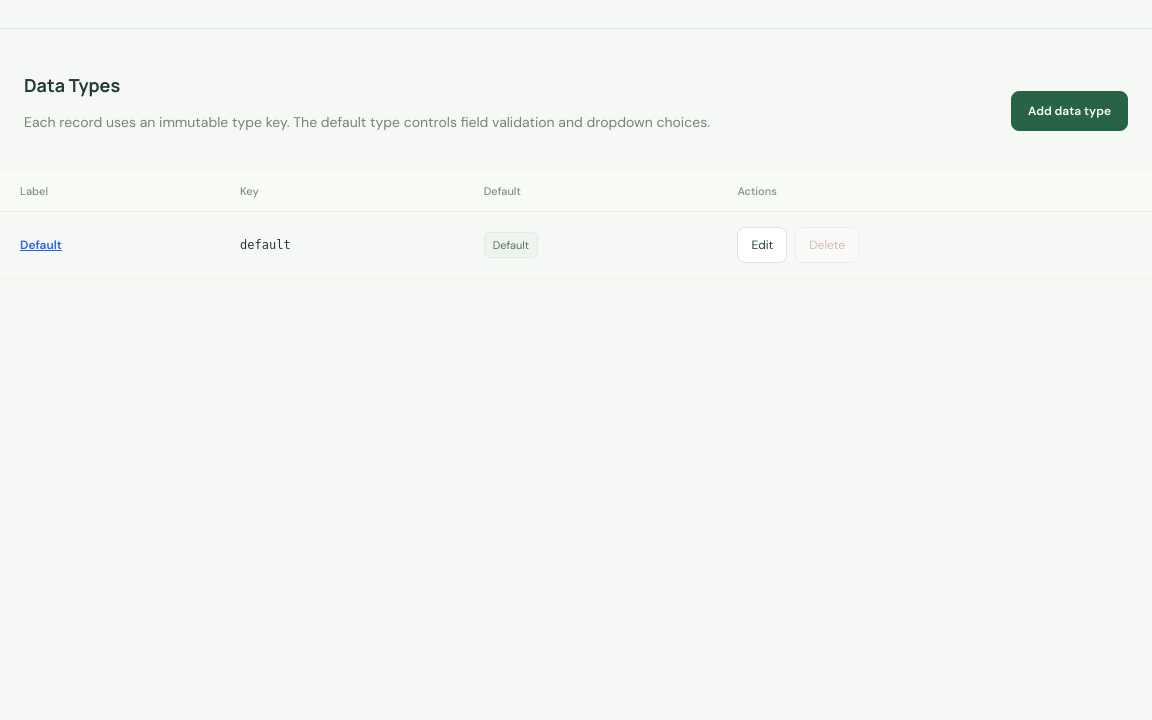
data type metadata › shows a data type's fields only after drilling down through its label
Expected: the heading "Default fields" is not shown
Click the button "Default": coordinates (41, 245) [20,237,62,253]
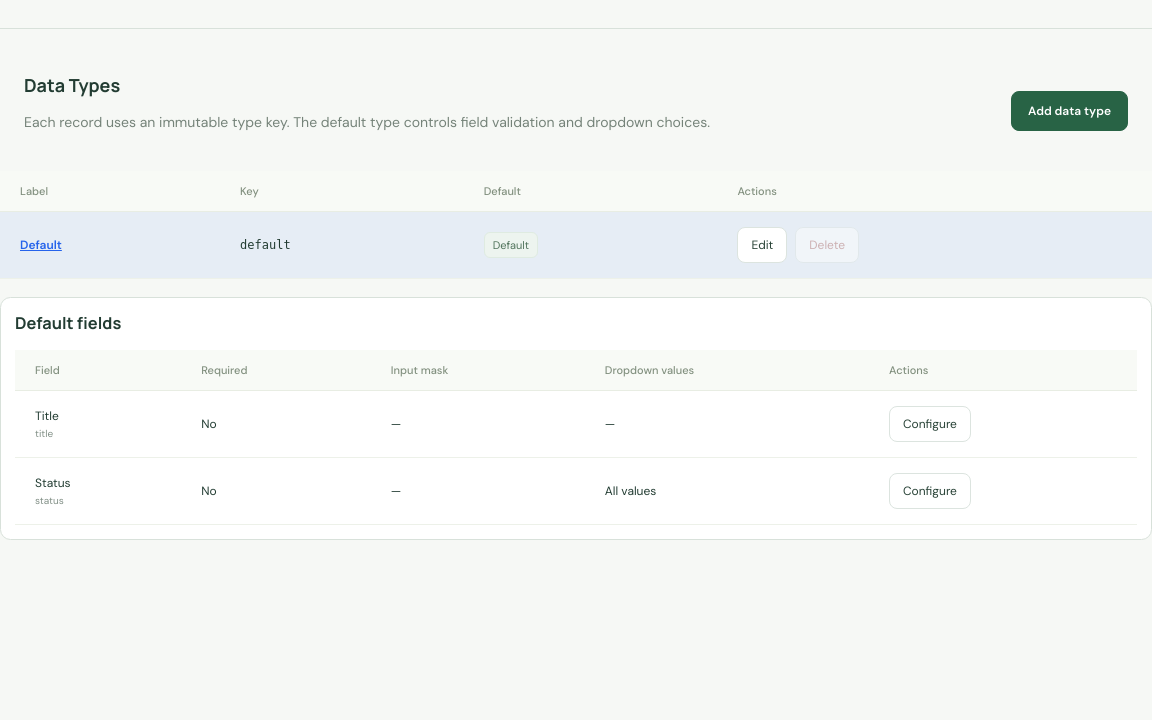
Result: the heading "Default fields" is shown at [15,312,121,334]
Result: the button with aria-label "Configure title for Default" is shown at [889,406,971,442]
